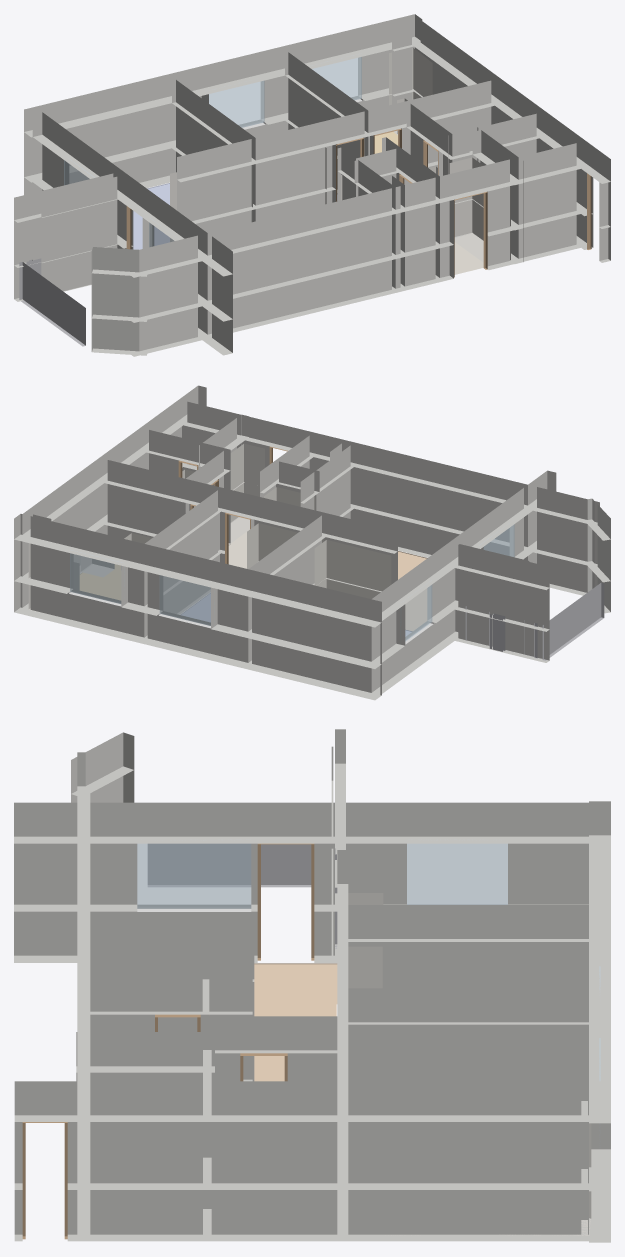
3 views of the same model, one above another, from view 1: azimuth 30°, elevation 25°; view 2: azimuth 150°, elevation 25°; view 3: azimuth 270°, elevation 25° (orthographic). The views are drawn at different scales.
Visible parts, largest first — view 1: walls, railings, furniture_4_closet, window_0, window_1, furniture_0_closet, floor_0_Bed_Room, floor_2_Entry, door_4; view 2: walls, furniture_1_closet, railings, window_1, window_0, furniture_4_closet, furniture_2_closet, floor_1_Living_Room, window_3, floor_4_Kitchen, window_10, floor_2_Entry (+3 smaller); view 3: walls, window_10, railings, window_3, floor_1_Living_Room, furniture_2_closet, door_2, door_11.
Part boxes in pixels (x1,y1,x2,y2): walls: (14, 14, 610, 356); railings: (19, 258, 85, 346); furniture_4_closet: (449, 157, 510, 262); window_0: (205, 81, 264, 127); window_1: (312, 55, 361, 100); furniture_0_closet: (389, 47, 432, 135); floor_0_Bed_Room: (133, 183, 169, 249); floor_2_Entry: (454, 242, 483, 274); door_4: (454, 191, 487, 277); walls: (14, 385, 610, 700); furniture_1_closet: (314, 540, 391, 599); railings: (465, 582, 604, 660); window_1: (70, 550, 124, 603); window_0: (159, 575, 210, 625); furniture_4_closet: (230, 443, 264, 543); furniture_2_closet: (247, 523, 324, 568); floor_1_Living_Room: (398, 551, 427, 630); window_3: (400, 580, 432, 641); floor_4_Kitchen: (80, 564, 120, 600); window_10: (479, 524, 514, 556); floor_2_Entry: (228, 529, 249, 568); walls: (14, 729, 610, 1242); window_10: (137, 840, 251, 908); railings: (148, 844, 337, 948); window_3: (407, 843, 507, 904); floor_1_Living_Room: (254, 963, 337, 1081); furniture_2_closet: (348, 946, 382, 988); door_2: (257, 843, 314, 960); door_11: (22, 1122, 67, 1239).
Bounding box in the file's own units: 13.6 × 2.72 × 9.54.
